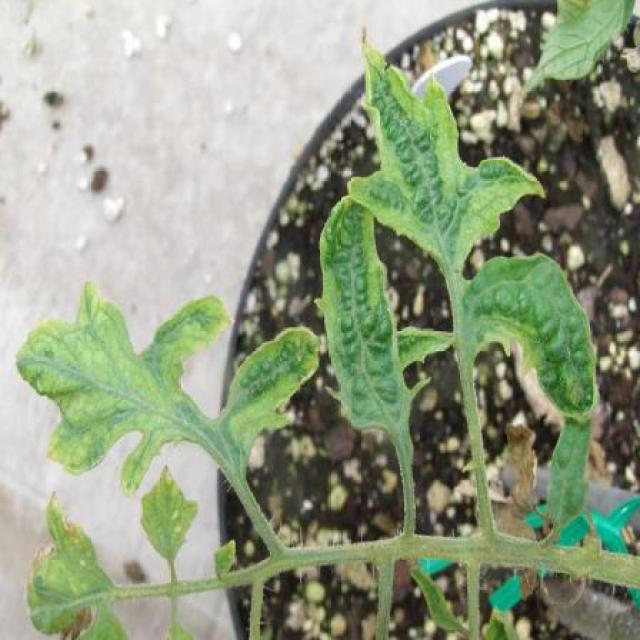Mosaic Virus: (345, 28, 545, 258), (16, 288, 231, 491), (321, 197, 420, 436), (463, 254, 601, 421), (222, 322, 322, 444)
